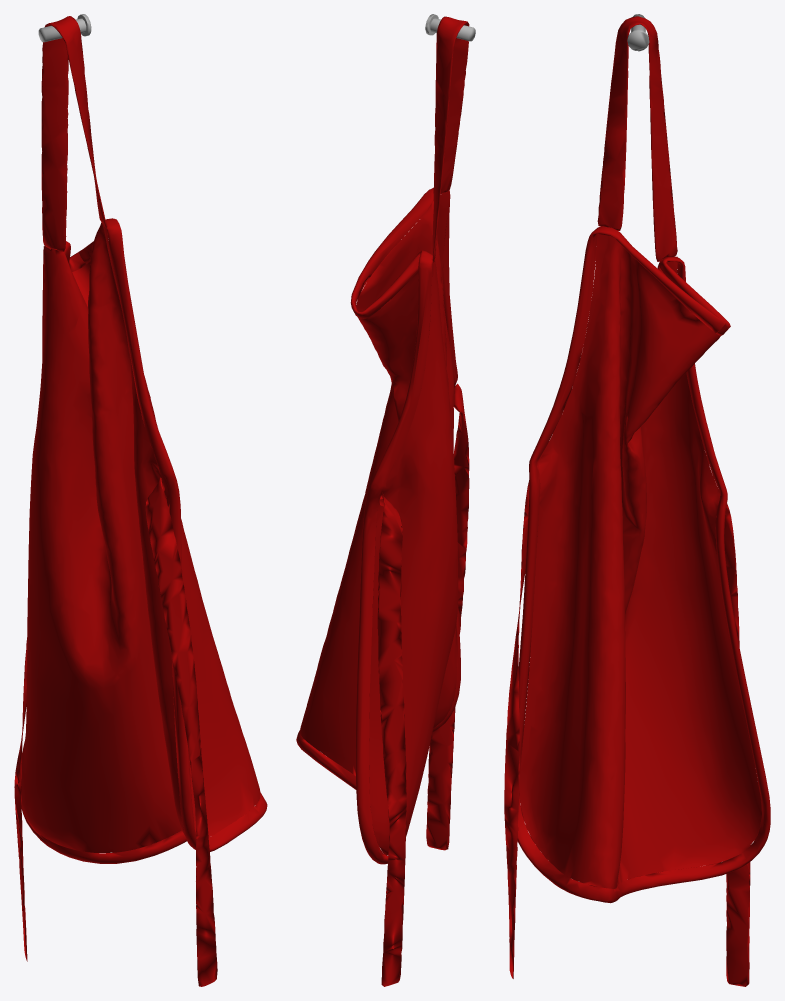
File: Apron.fbx
3 renders of one model, left to right at view 1: azimuth 30°, elevation 25°; view 2: azimuth 150°, elevation 25°; view 3: azimuth 270°, elevation 25°, orthographic. The views are drawn at different scales.
Visible parts, largest first — view 1: apron; view 2: apron; view 3: apron.
Boxes of the visible parts, bbox=[...] form: apron: bbox=[14, 14, 267, 986]; apron: bbox=[296, 14, 475, 986]; apron: bbox=[504, 14, 770, 986].
Bounding box in the file's own units: 34.66 × 161 × 40.49.
